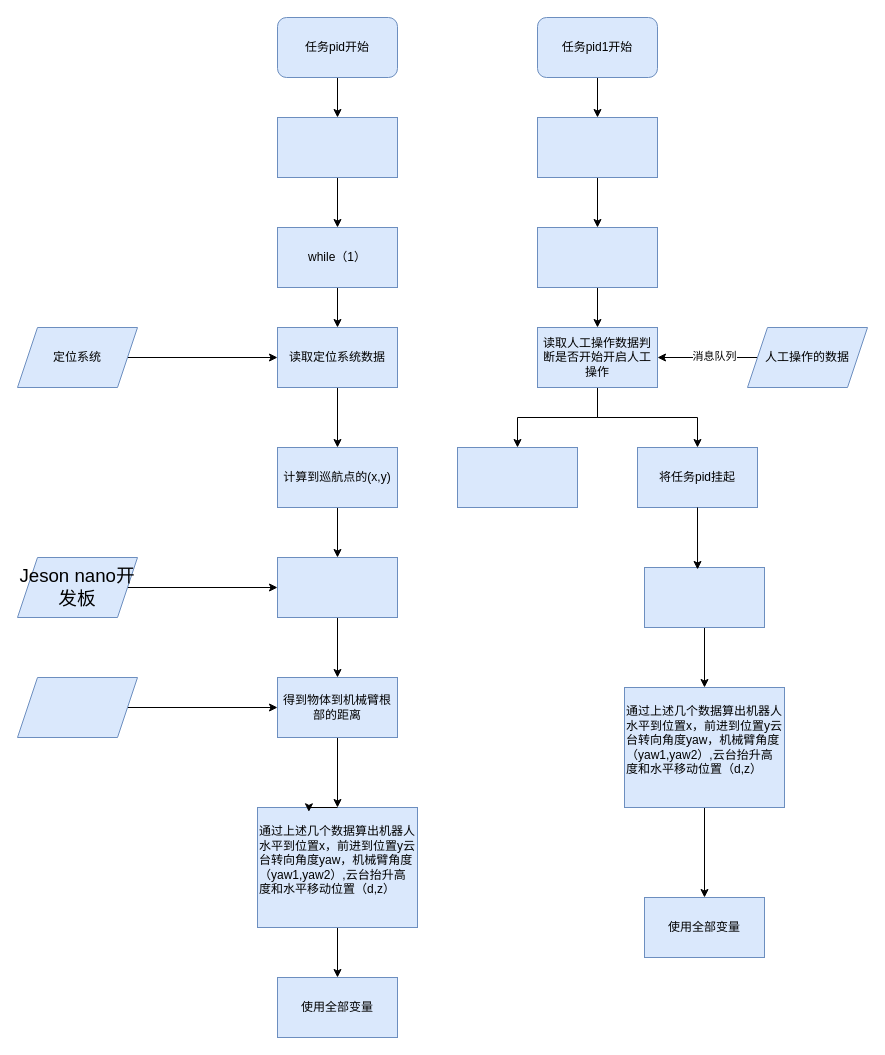
Image size: 885x1055. Some labels were removed from this diagram. Here are the shapes that lost their labels. From the top down, the centre of each, then its label:
point (337, 147): 设定巡航点
point (597, 147): 初始化参数
point (597, 257): while(1)
point (517, 477): 将任务pid唤醒
point (337, 587): 得到目标物体距离图像中心的(x,y)，以及仪表表盘指针等信息
point (704, 597): 将人工操作的数据转换为机器人和机械臂的运行参数
point (77, 707): 激光
